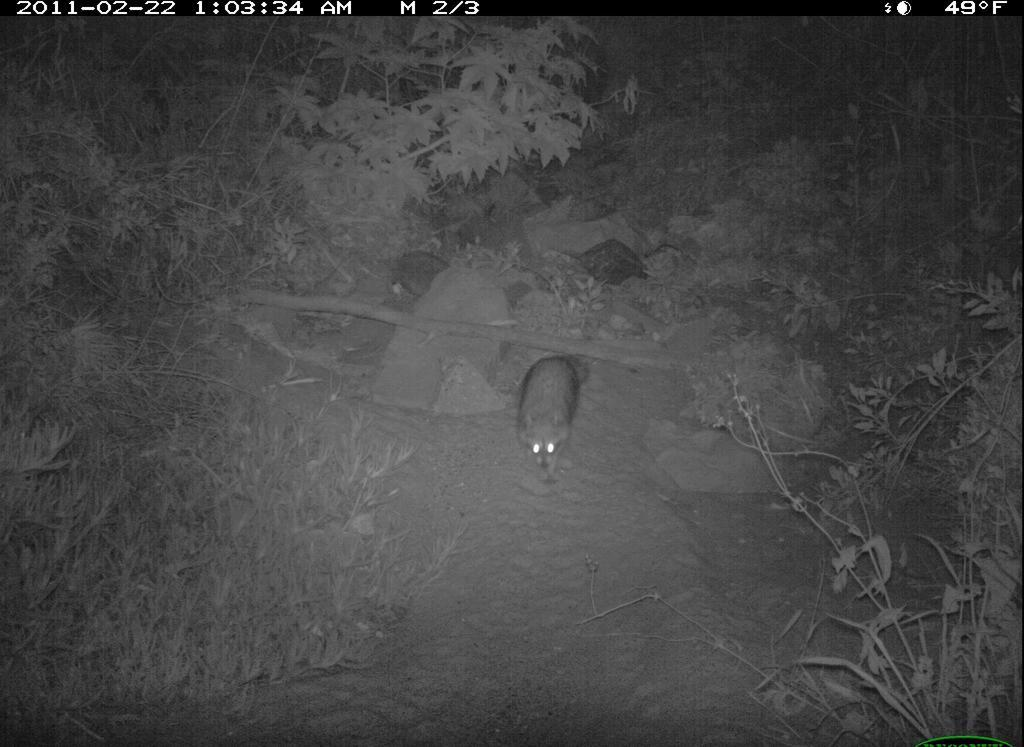raccoon: (510, 347, 588, 495)
